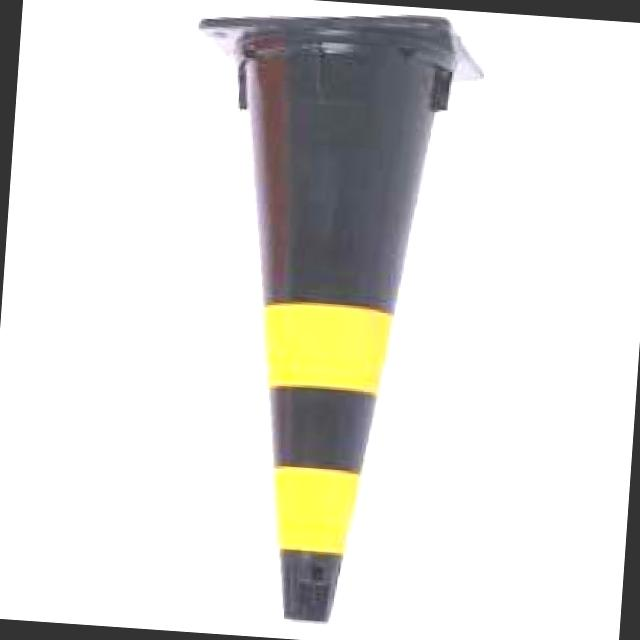cone: (174, 15, 467, 623)
